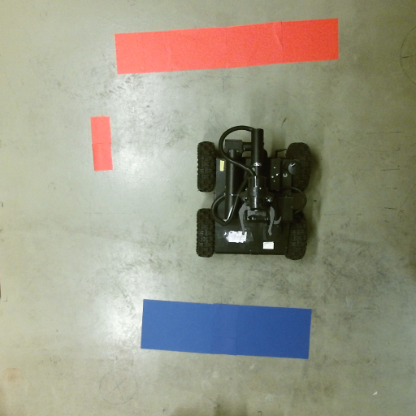Blue: (139, 297, 316, 361)
Jaguar: (195, 124, 313, 261)
Red: (114, 19, 343, 75), (91, 116, 114, 171)
